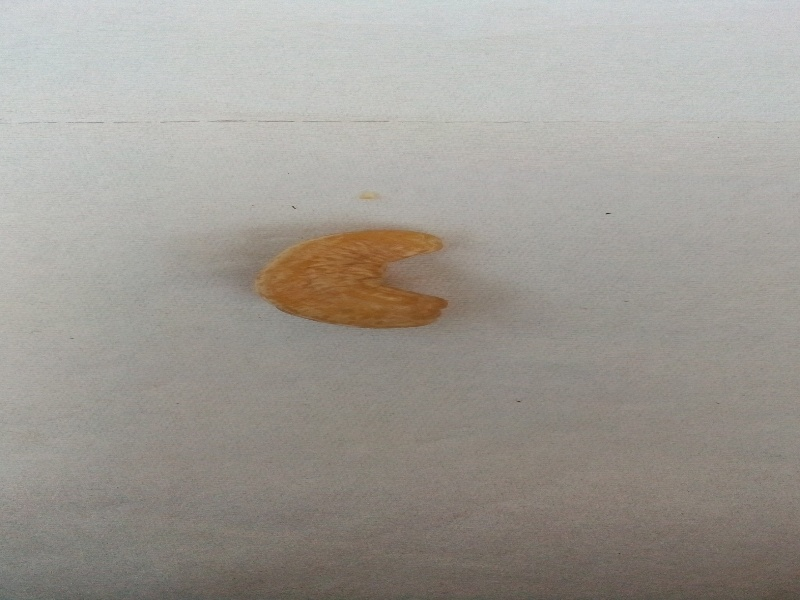cashew: (229, 205, 488, 360)
